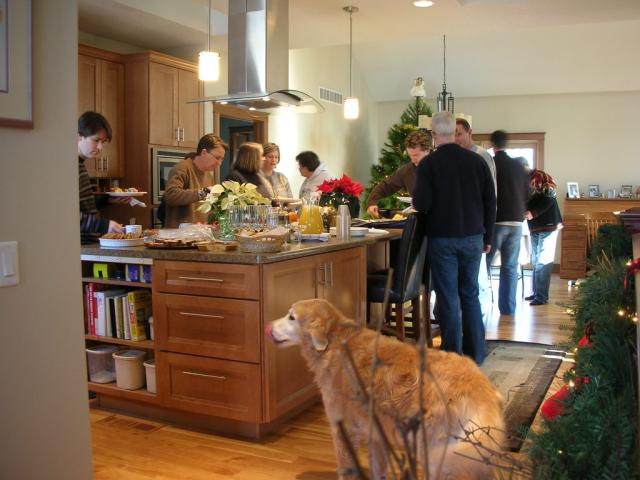Dog: (268, 296, 508, 480)
